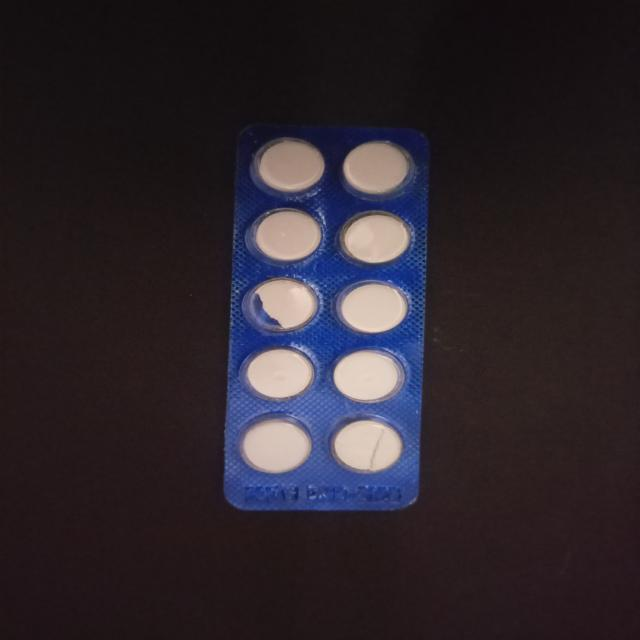defect: (242, 276, 323, 335), (327, 414, 404, 475)
